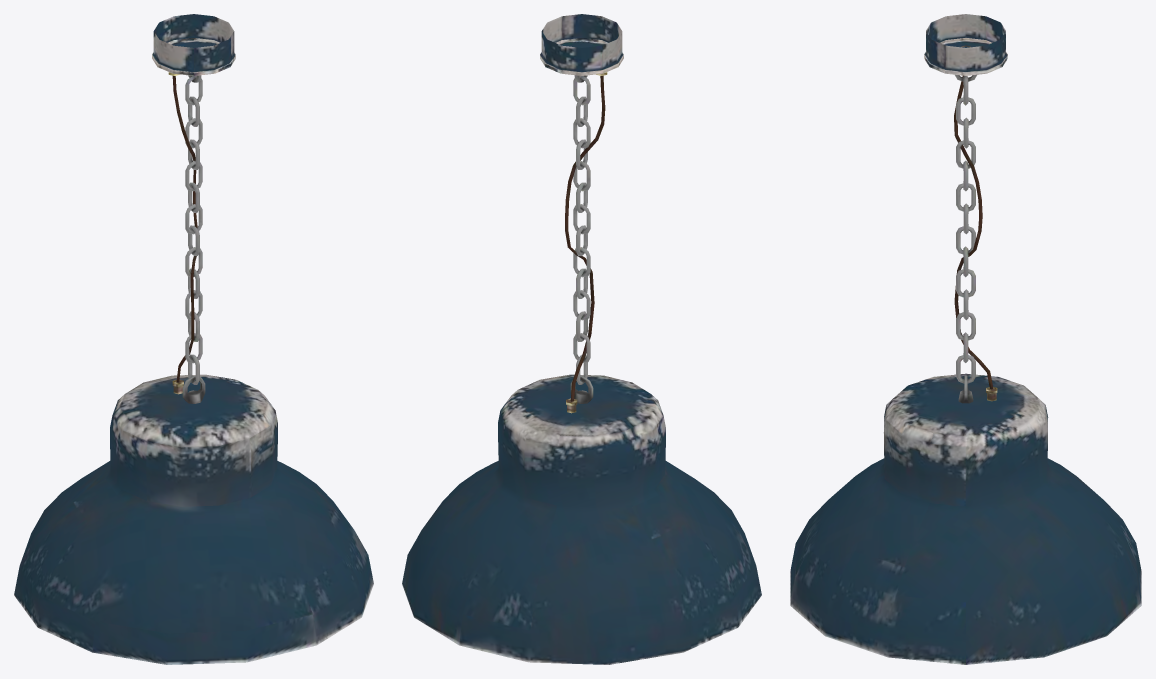
Rendered from industrial_lamp.glb.
3 views of the same model, side by side, from view 1: azimuth 30°, elevation 25°; view 2: azimuth 150°, elevation 25°; view 3: azimuth 270°, elevation 25° (orthographic).
Visible parts, largest first — view 1: BezierCurve, RoofMount, Chain, Cord; view 2: BezierCurve, RoofMount, Chain, Cord; view 3: BezierCurve, RoofMount, Chain, Cord.
Part boxes in pixels (left/top/right/bottom): BezierCurve: left=14, top=374, right=373, bottom=664; RoofMount: left=152, top=14, right=235, bottom=75; Chain: left=185, top=76, right=202, bottom=384; Cord: left=172, top=76, right=197, bottom=382; BezierCurve: left=402, top=374, right=761, bottom=664; RoofMount: left=540, top=14, right=623, bottom=75; Chain: left=573, top=76, right=590, bottom=384; Cord: left=565, top=75, right=605, bottom=401; BezierCurve: left=790, top=373, right=1141, bottom=664; RoofMount: left=924, top=14, right=1007, bottom=75; Chain: left=956, top=76, right=975, bottom=383; Cord: left=954, top=75, right=993, bottom=389.
Size of the model in its own units: 200 by 342 by 195.
Materials: 1 (1 with a texture image).
